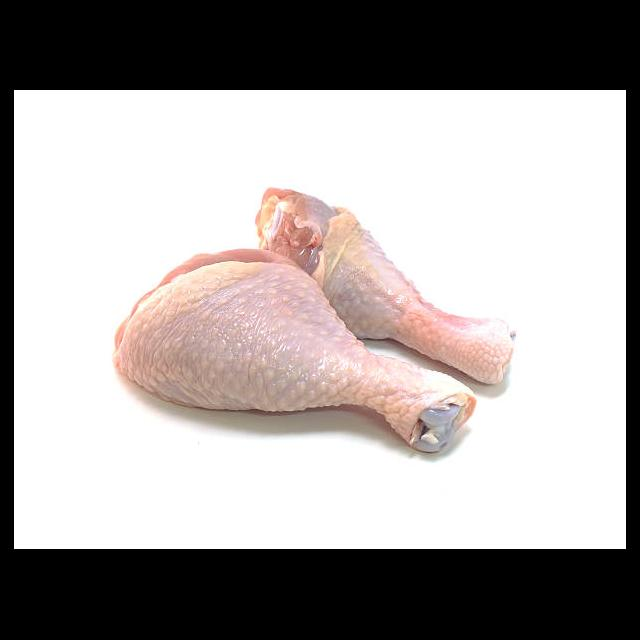chicken: (111, 247, 477, 452), (256, 184, 518, 384)
